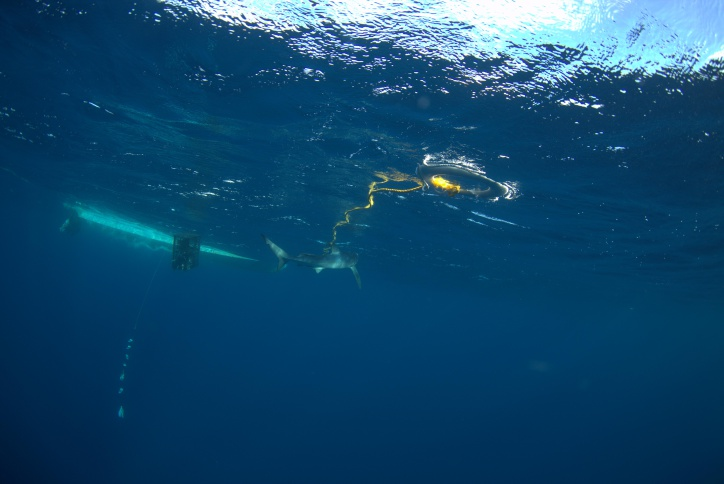Azul: (246, 221, 392, 300)
